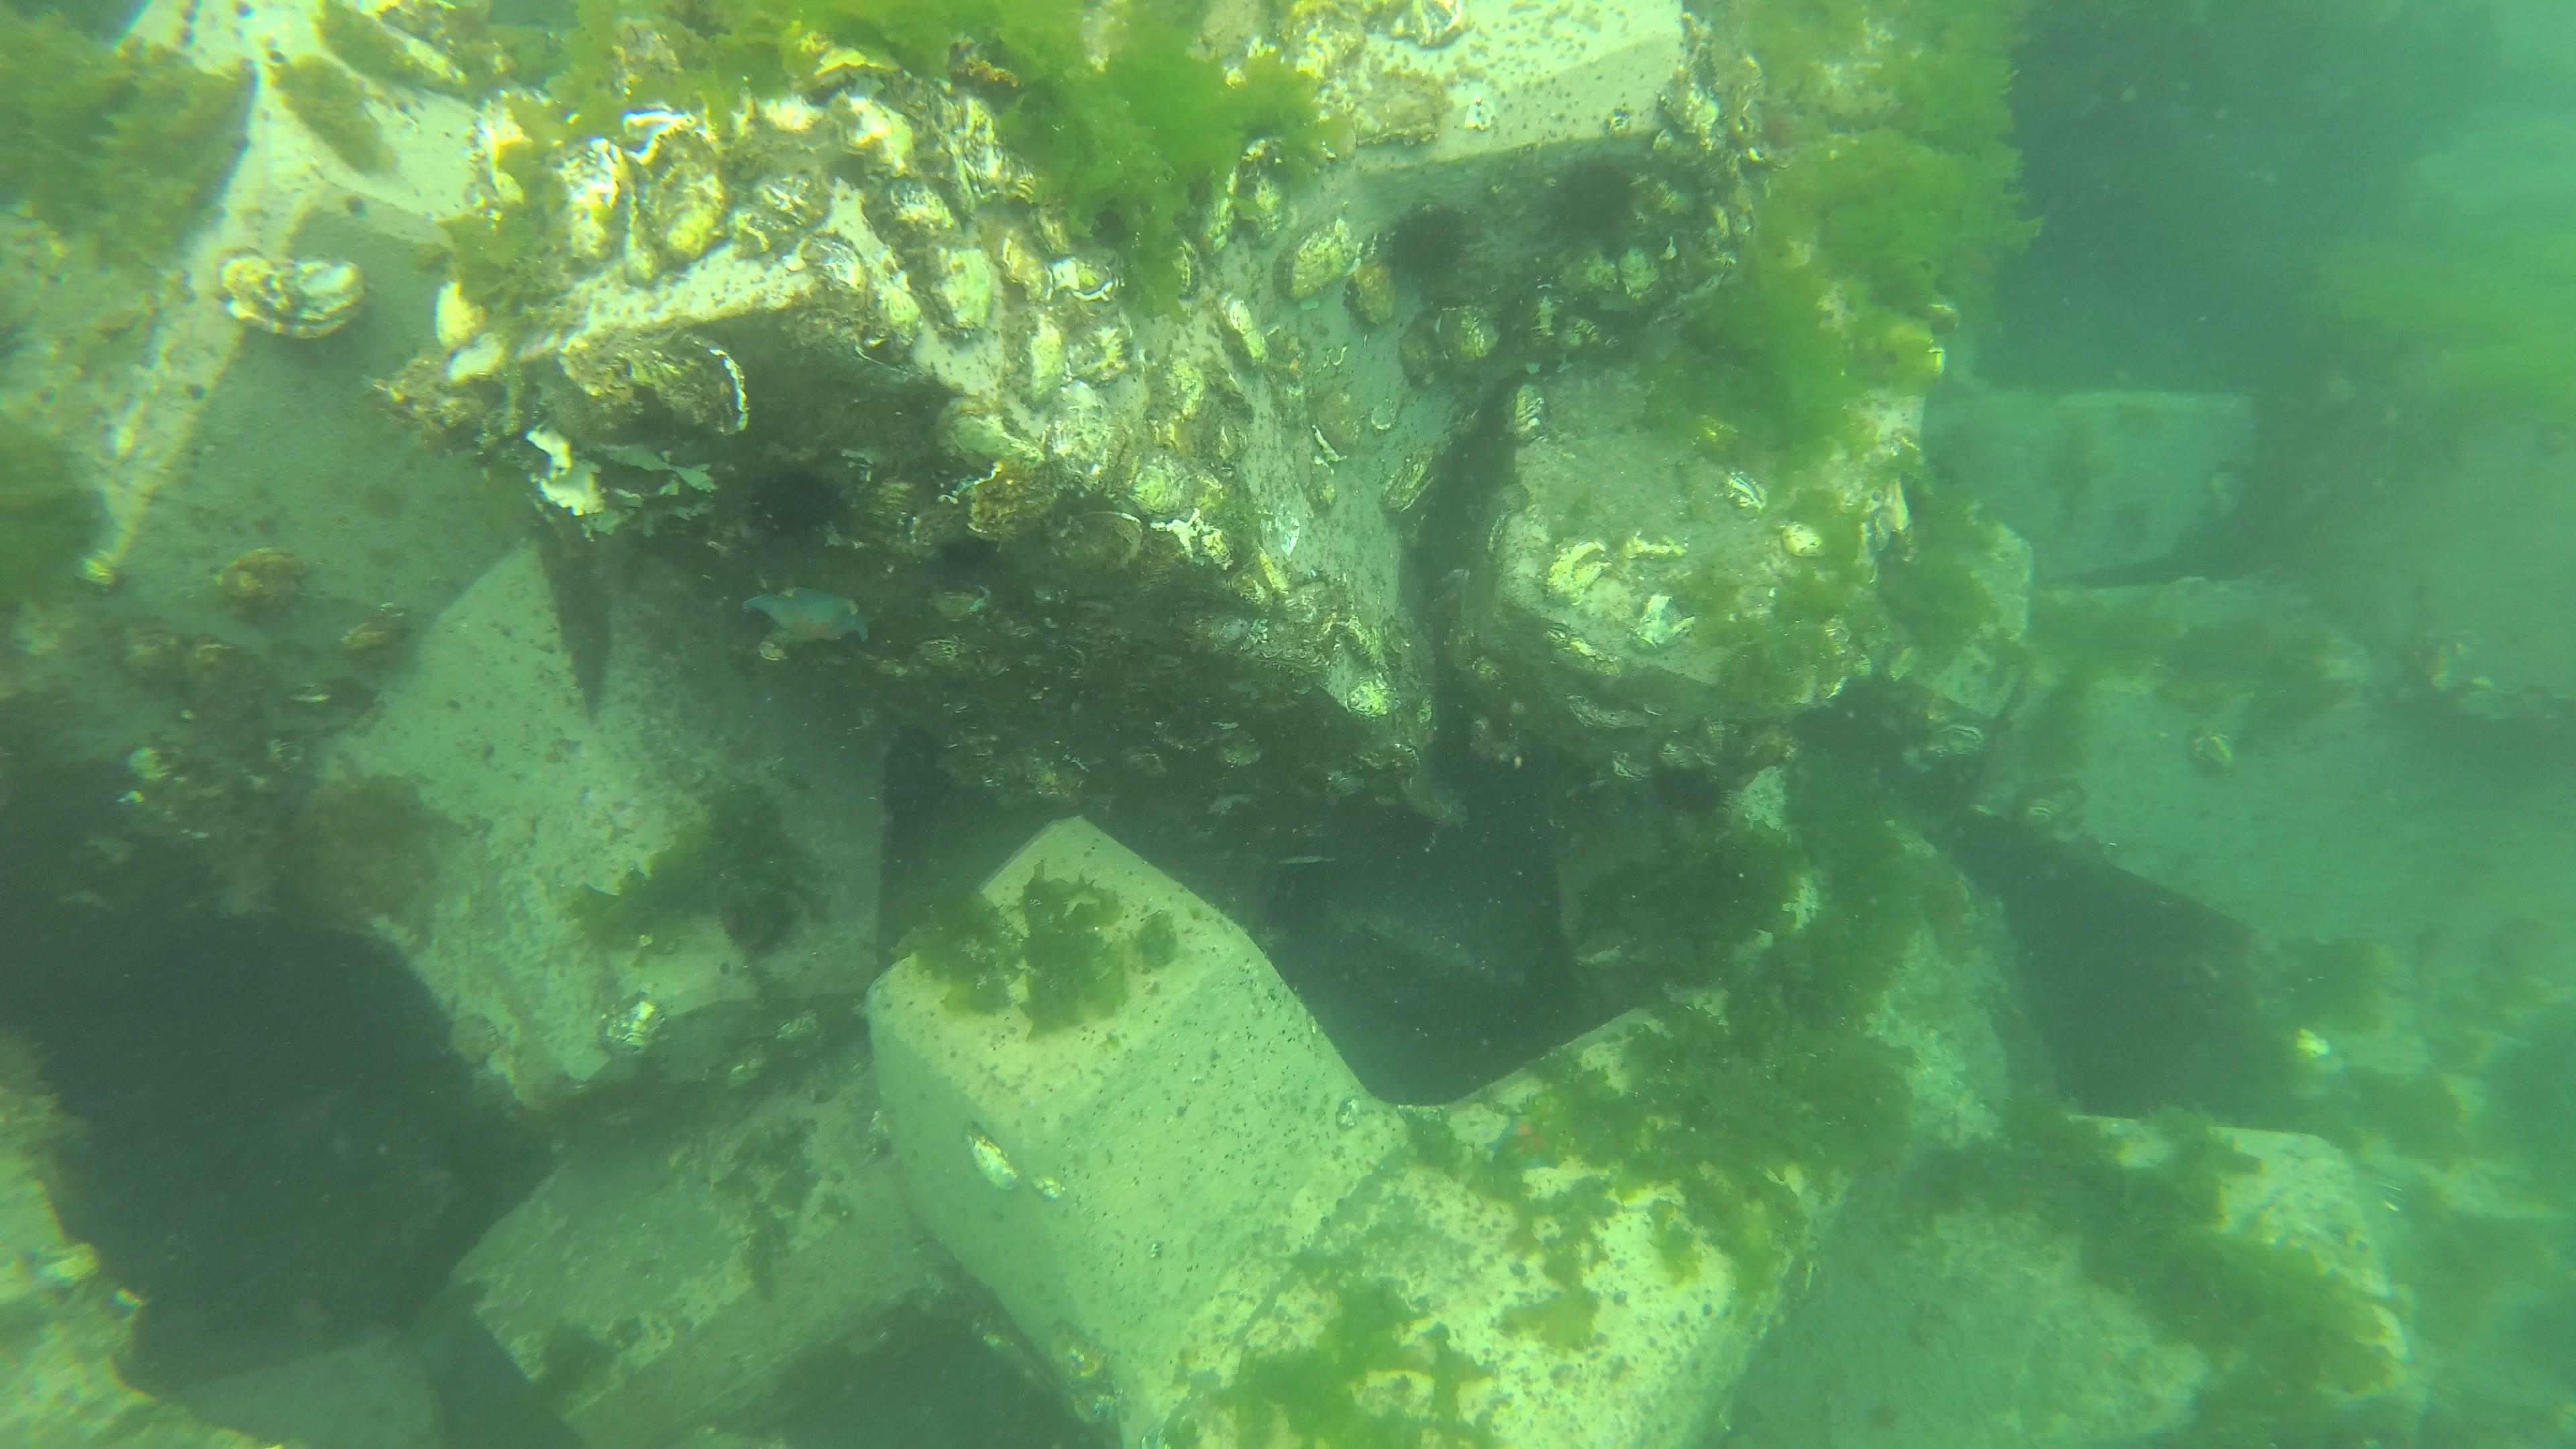echinus: (747, 469, 844, 540), (1385, 200, 1467, 278), (1562, 154, 1635, 234), (717, 890, 800, 955), (1677, 771, 1734, 817), (939, 536, 996, 571)
starfish: (740, 586, 874, 648)
